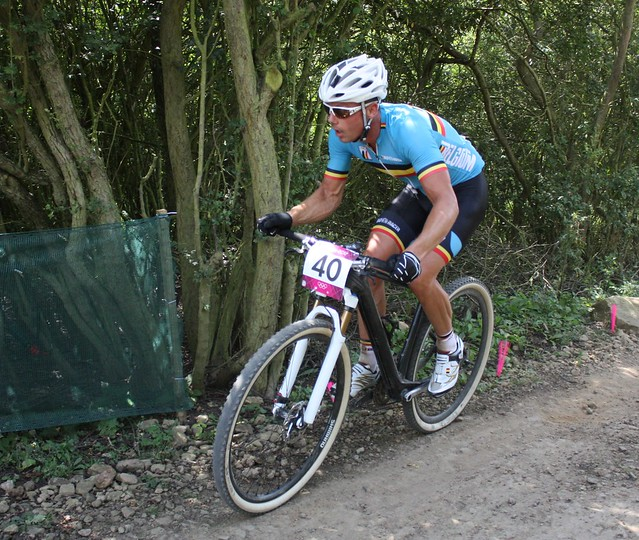helmet: (312, 53, 396, 111)
